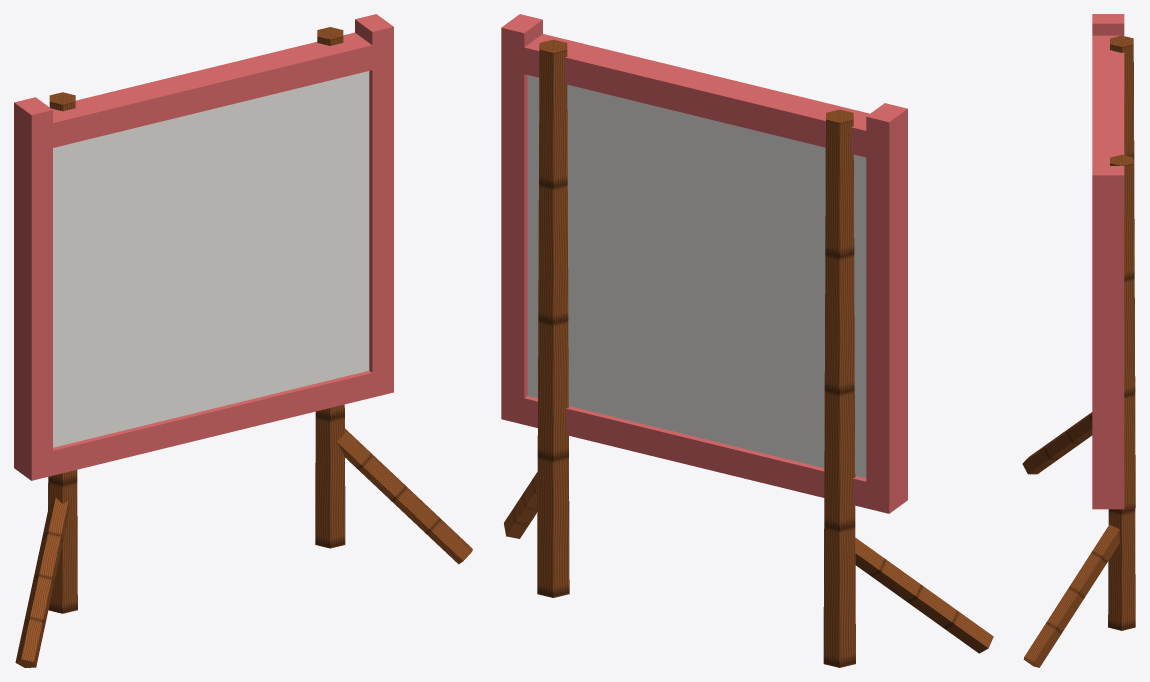
Rendered from travelling-circus-and-big-top-circus-poster-board-2f20a5c1__36239.glb.
3 renders of one model, left to right at view 1: azimuth 30°, elevation 25°; view 2: azimuth 150°, elevation 25°; view 3: azimuth 270°, elevation 25°, orthographic. The views are drawn at different scales.
Parts seen in each view (by area): view 1: circus-poster-board-canvas, circus-poster-board-stripe, circus-poster-board-timber; view 2: circus-poster-board-canvas, circus-poster-board-stripe, circus-poster-board-timber; view 3: circus-poster-board-stripe, circus-poster-board-timber.
Boxes of the visible parts, x1,y1,x2,y2 form: circus-poster-board-canvas: [53, 71, 369, 447]; circus-poster-board-stripe: [14, 14, 393, 480]; circus-poster-board-timber: [15, 27, 472, 667]; circus-poster-board-canvas: [527, 75, 866, 478]; circus-poster-board-stripe: [501, 14, 907, 513]; circus-poster-board-timber: [504, 39, 993, 667]; circus-poster-board-stripe: [1092, 14, 1124, 509]; circus-poster-board-timber: [1022, 35, 1135, 667].
Bounding box in the file's own units: 2.11 × 2.31 × 0.4987.
Materials: 3 (1 with a texture image).
